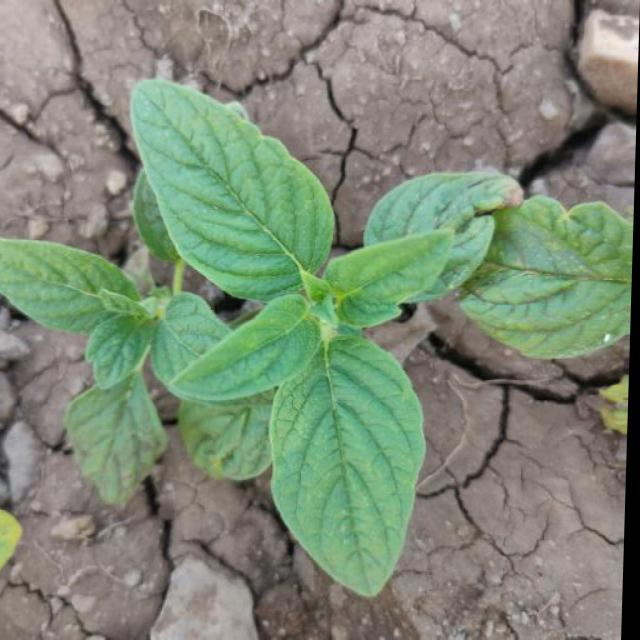crop: (10, 81, 638, 604)
